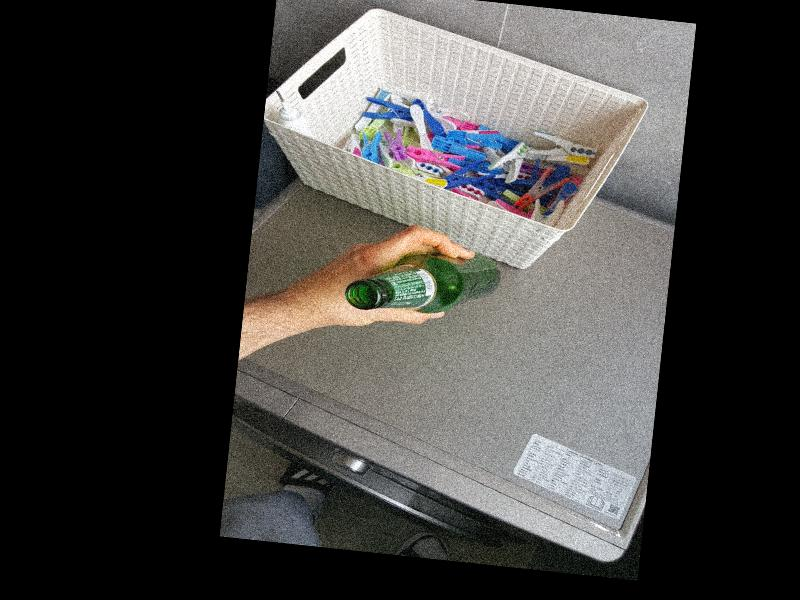Beer: (344, 237, 502, 324)
